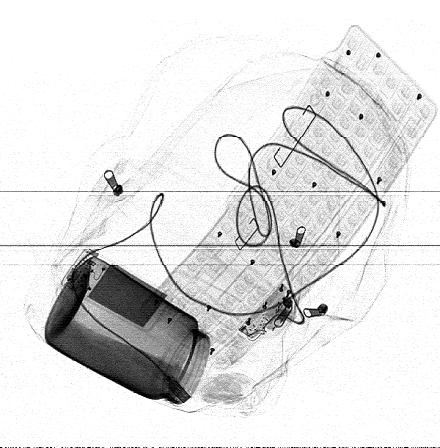Powerbank: (55, 247, 174, 333)
